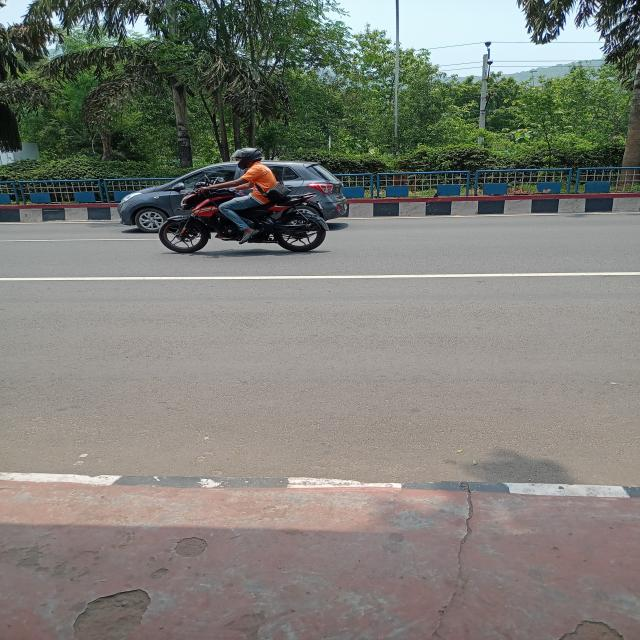bike: (158, 189, 326, 259)
